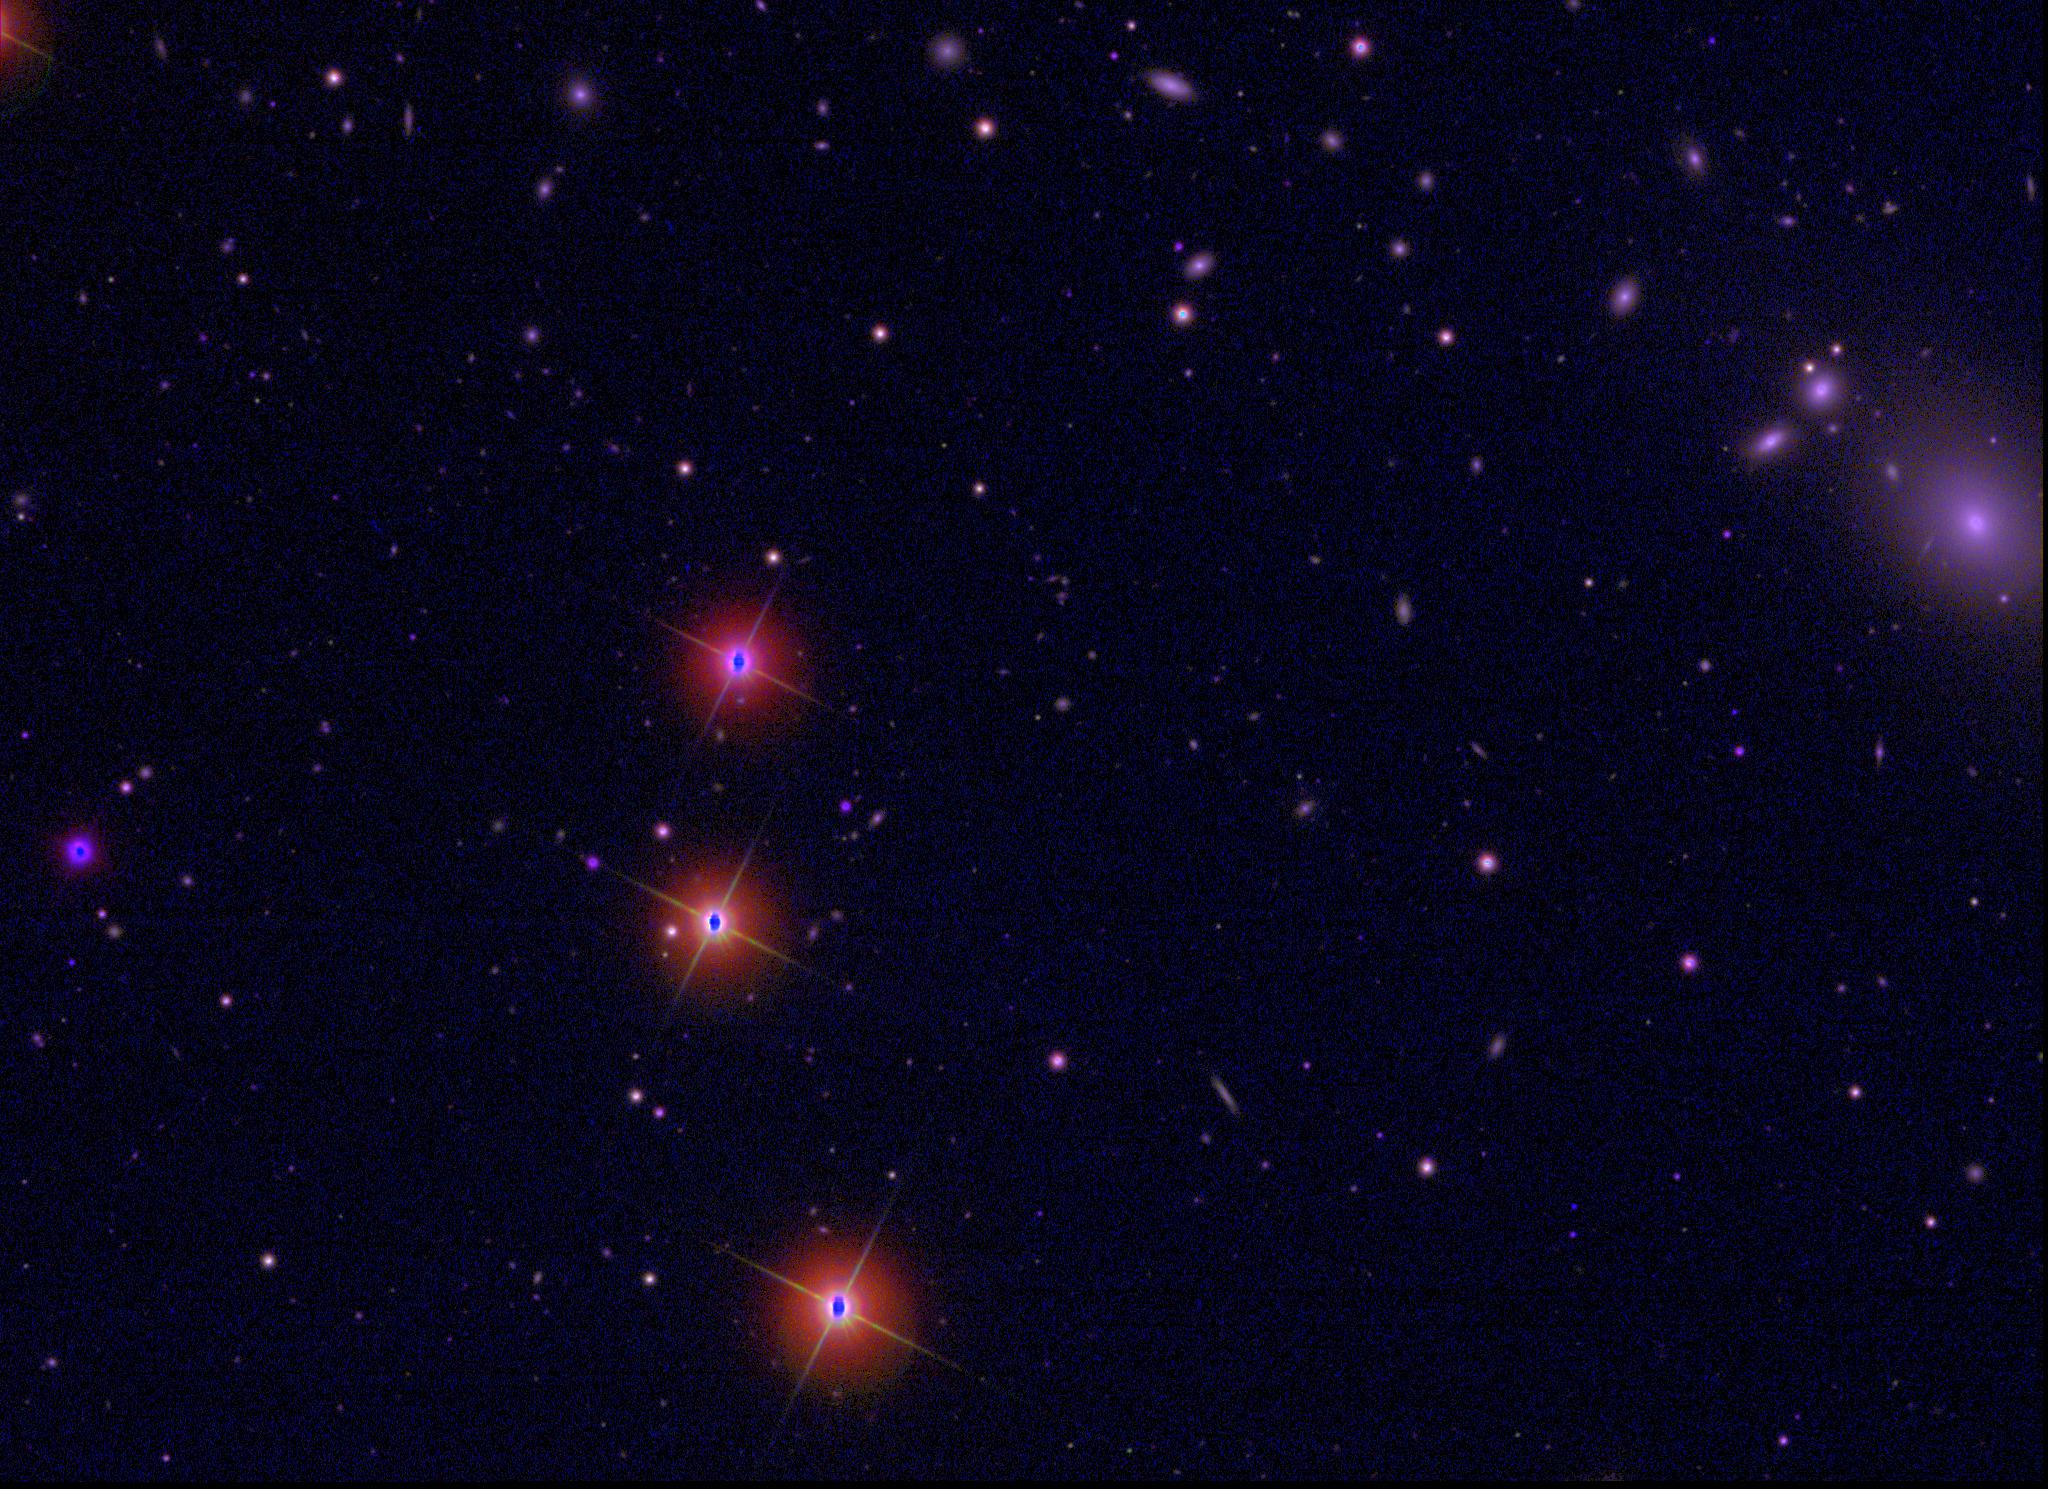L: (1566, 1198, 1581, 1212)
